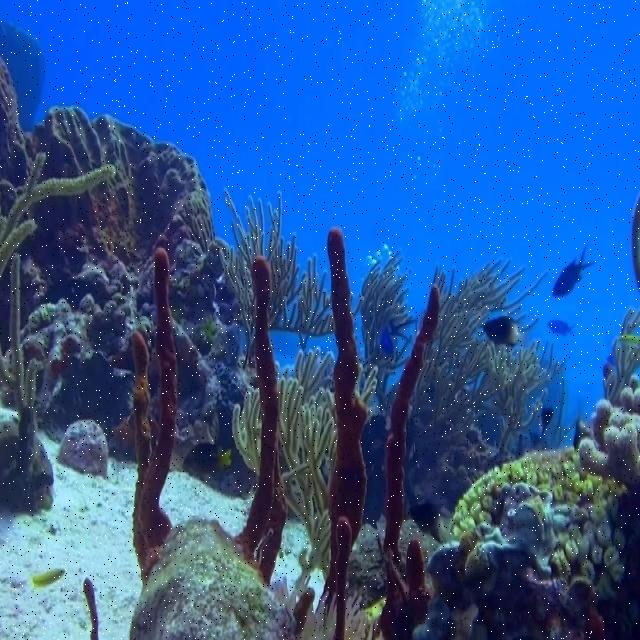aquatic plants: (406, 261, 562, 470), (219, 185, 333, 365), (0, 155, 115, 272), (280, 348, 334, 579), (0, 255, 44, 469), (363, 254, 415, 406), (233, 389, 264, 472)
fish: (552, 247, 594, 295), (484, 317, 540, 346), (550, 321, 577, 335)
reefs: (130, 248, 639, 602), (374, 283, 440, 639), (316, 224, 368, 639), (235, 255, 290, 585), (294, 588, 315, 638)
